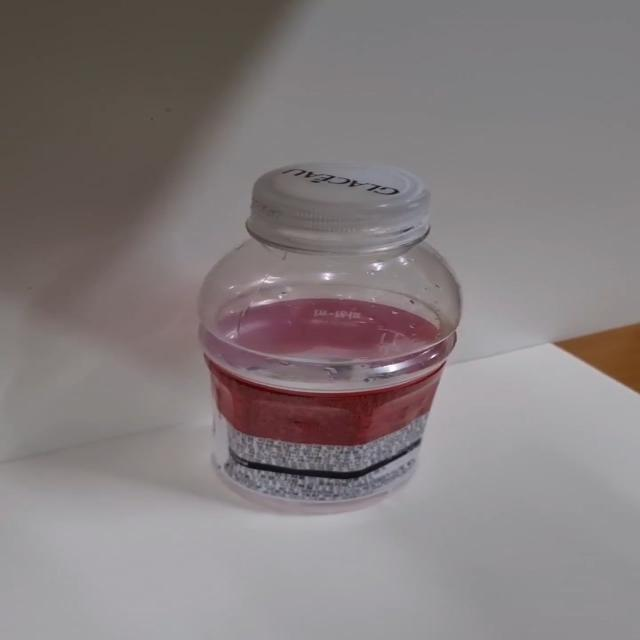Plastic: (196, 161, 463, 518)
